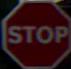Stop: (9, 12, 67, 55)
